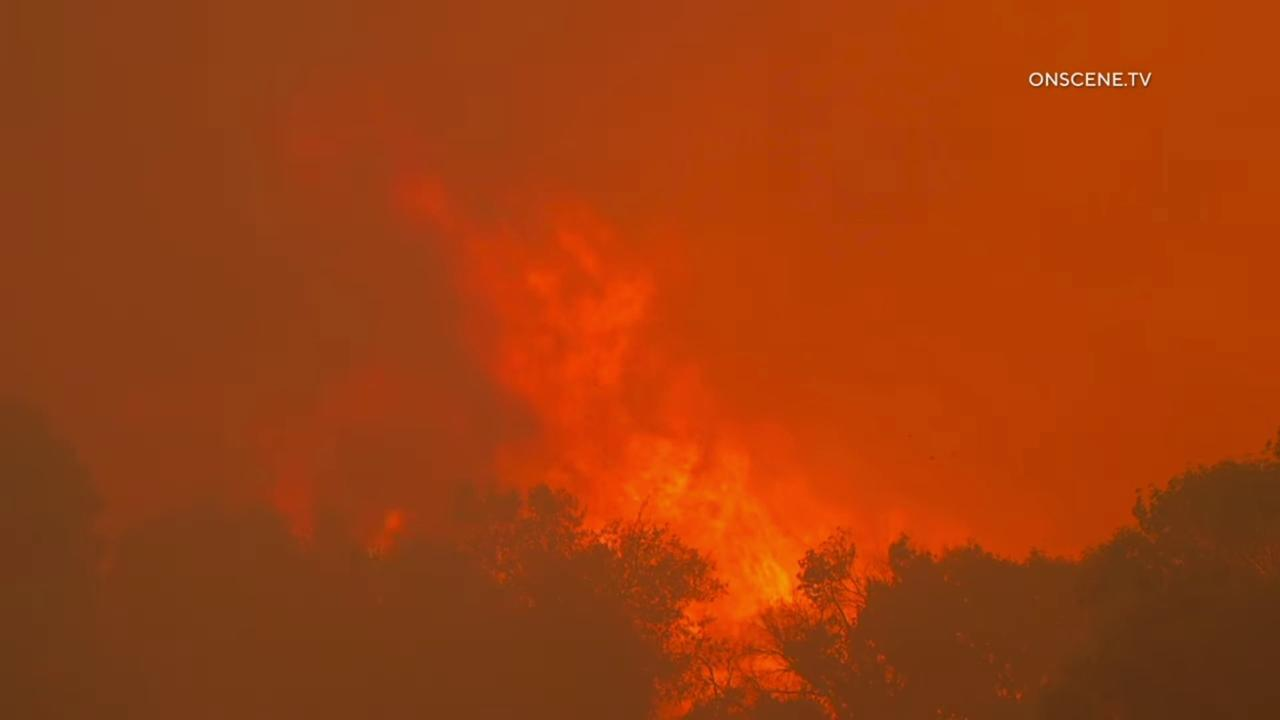fire: (385, 160, 973, 720), (363, 506, 410, 565)
smoke: (0, 0, 1280, 720)
